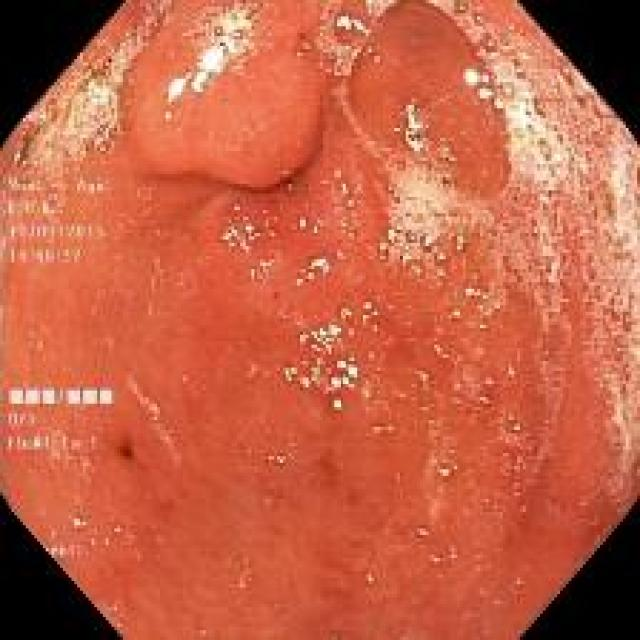Polyps: (122, 4, 322, 190)
